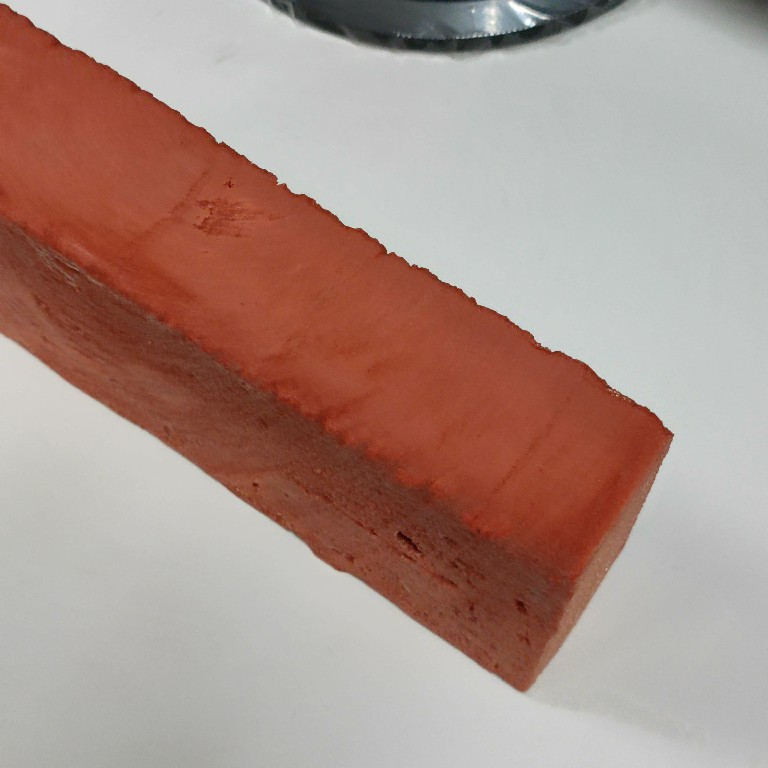brick: (1, 1, 677, 706)
